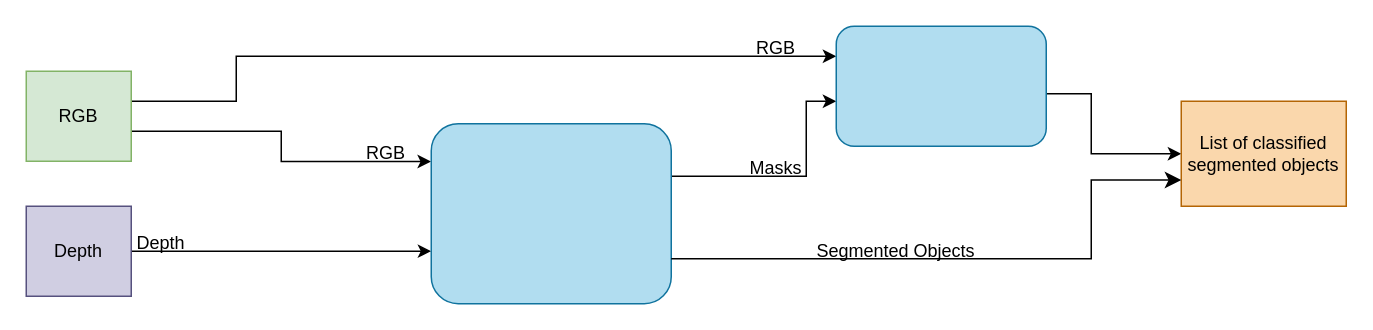
This 1373x330 diagram has some shape labels left out. Here are the shapes that lost their labels. From the top down, the centre of each, then its label:
At point 940,85: "CNN Classifier".
At point 550,213: "UOIS - Net - 3D".
